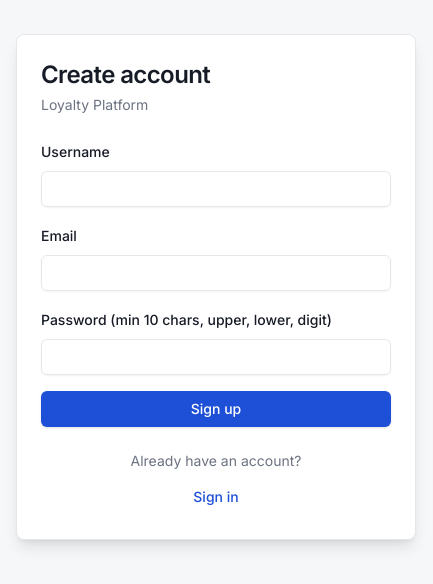
Test case: SignUp › shows error when sign up fails (negative)
Type "x" into the field labelled "Username" at point(216, 189), box [41,171,391,207]
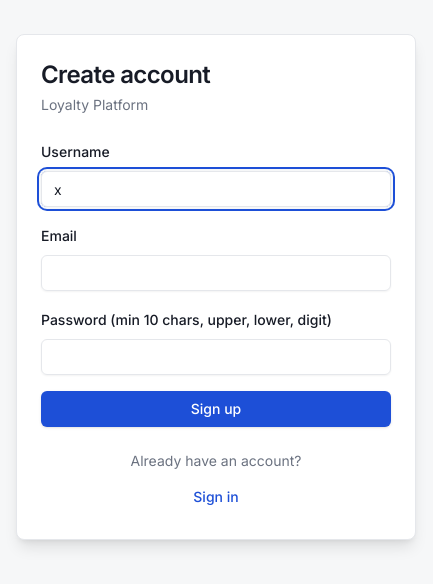
Type "x@x.com" into the field labelled "Email" at point(216, 273), box [41,255,391,291]
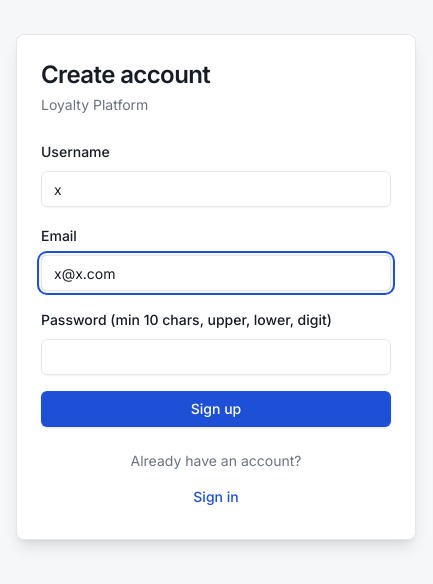
Type "Password1234" into the password field labelled "Password (min 10 chars, upper, lower, digit)" at point(216, 357), box [41,339,391,375]
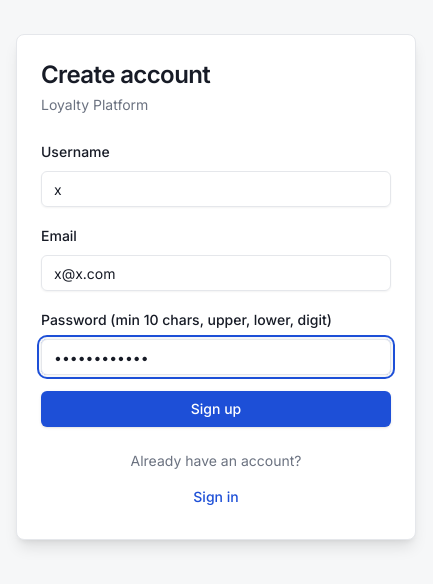
Click the button "Sign up" at point(216, 409), box [41,391,391,427]
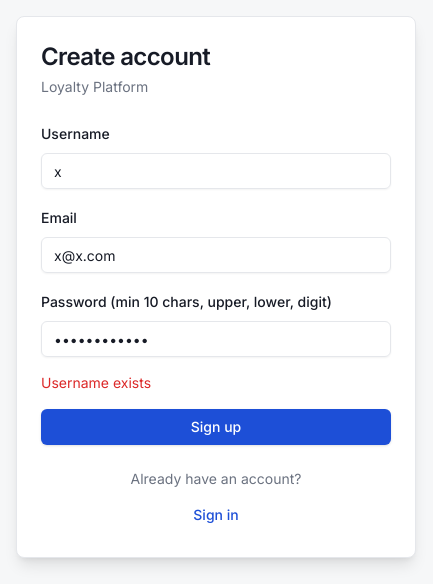
Expected: the message reads "Username exists", [41,374,151,391]
